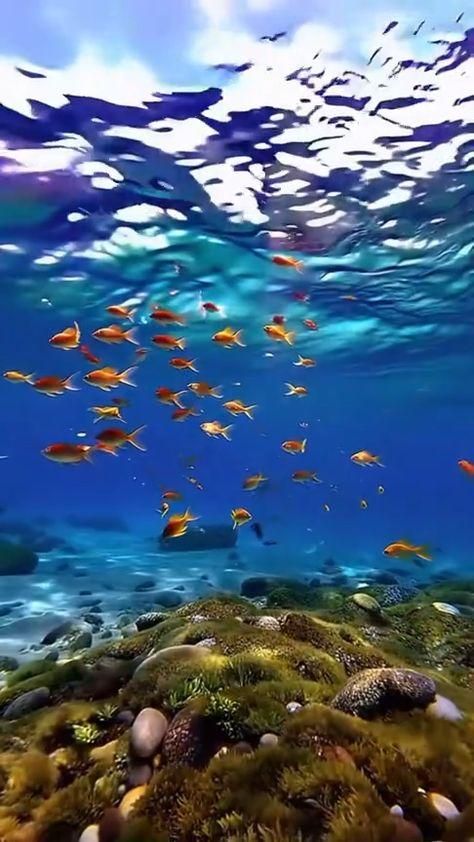fish: (83, 365, 139, 391), (34, 369, 80, 399), (163, 505, 202, 540), (95, 427, 150, 451), (42, 443, 96, 467), (383, 540, 433, 562), (91, 323, 140, 345), (48, 319, 79, 350), (212, 326, 248, 348), (155, 386, 188, 408), (222, 400, 258, 420), (200, 420, 232, 441), (265, 324, 294, 346), (352, 450, 385, 469), (151, 310, 186, 327), (106, 305, 138, 323), (188, 383, 224, 399), (242, 470, 269, 491), (172, 406, 202, 424), (292, 470, 323, 487), (153, 335, 185, 351), (3, 371, 37, 386), (231, 509, 254, 531), (273, 254, 303, 270), (170, 358, 200, 373), (283, 381, 308, 397), (292, 354, 317, 368), (281, 439, 306, 453), (202, 302, 220, 312)
